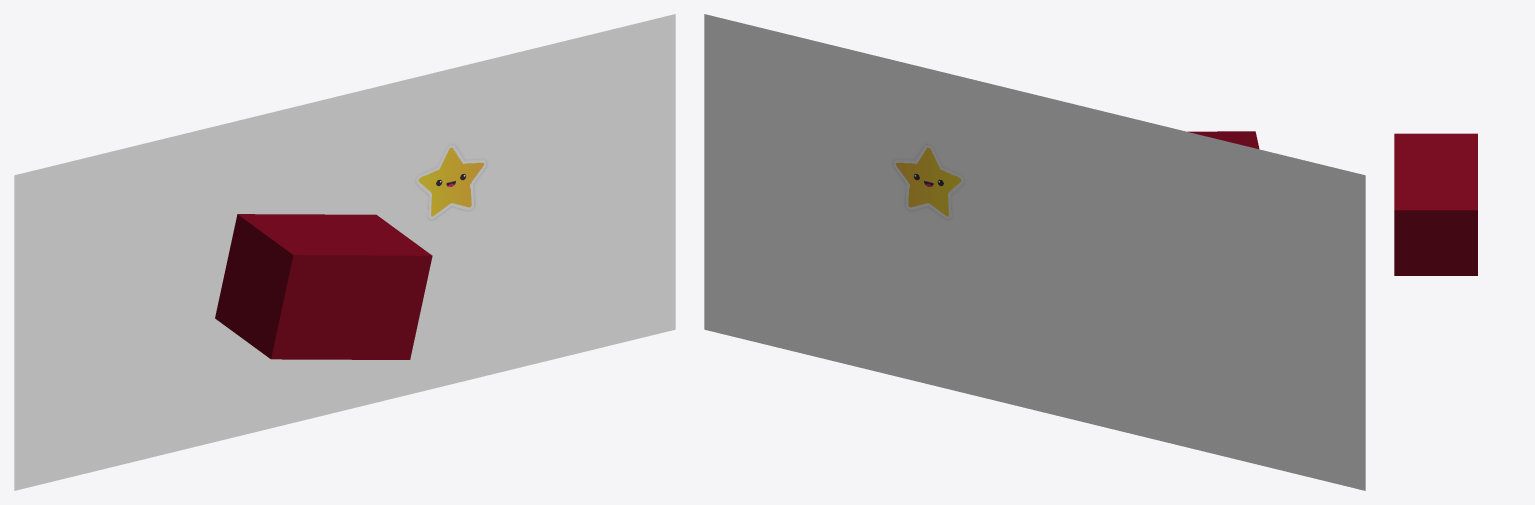
The picture shows the model from 3 angles, left to right: view 1: azimuth 30°, elevation 25°; view 2: azimuth 150°, elevation 25°; view 3: azimuth 270°, elevation 25°; orthographic projection. The views are drawn at different scales.
Visible parts, largest first — view 1: root (×2); view 2: root; view 3: root.
Part boxes in pixels (x1,y1,x2,y2): root (×2): [14, 14, 675, 490]; root: [704, 14, 1365, 490]; root: [1394, 133, 1477, 275].
Size of the model in its own units: 1.35 by 0.616 by 0.2991.
2 materials, 1 textured.
